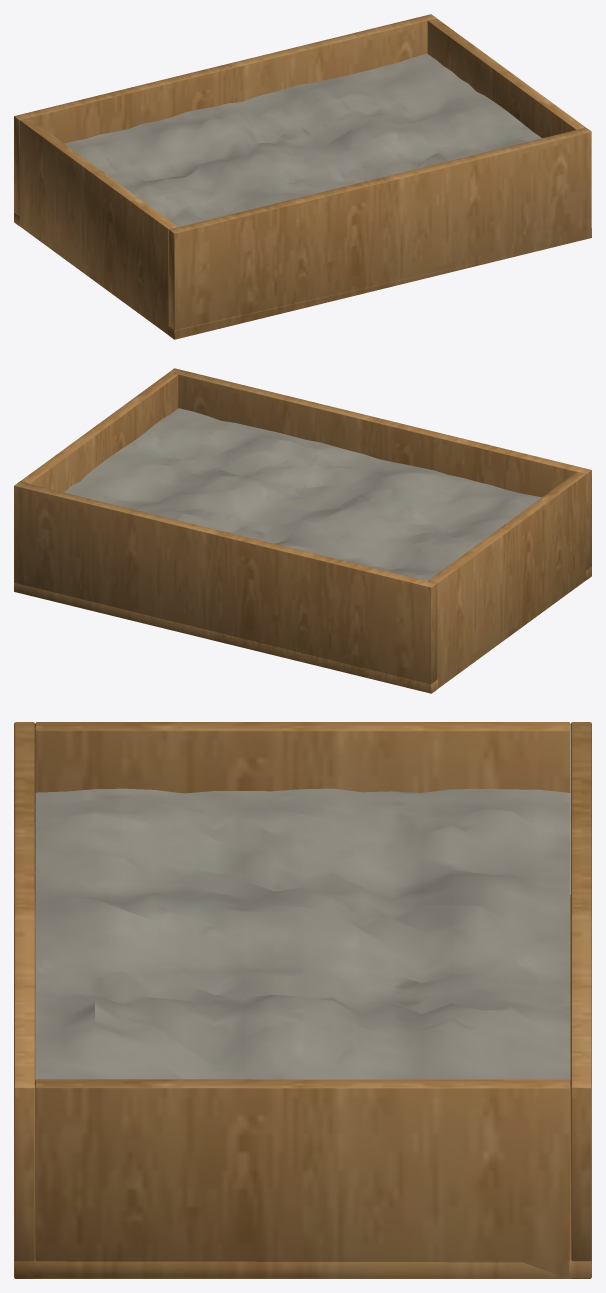
File: REV-ARG-002_lod1.glb
3 renders of one model, top to bottom at view 1: azimuth 30°, elevation 25°; view 2: azimuth 150°, elevation 25°; view 3: azimuth 270°, elevation 25°, orthographic. The views are drawn at different scales.
Parts seen in each view (by area): view 1: REV-ARG-002_lado-1, REV-ARG-002_argamassa, REV-ARG-002_cab-1, REV-ARG-002_lado1, REV-ARG-002_cab1, REV-ARG-002_fundo; view 2: REV-ARG-002_lado1, REV-ARG-002_argamassa, REV-ARG-002_cab-1, REV-ARG-002_lado-1, REV-ARG-002_cab1, REV-ARG-002_fundo; view 3: REV-ARG-002_argamassa, REV-ARG-002_cab1, REV-ARG-002_cab-1, REV-ARG-002_lado-1, REV-ARG-002_lado1, REV-ARG-002_fundo.
Boxes of the visible parts, left/top/right/bottom form: REV-ARG-002_lado-1: left=169, top=127, right=591, bottom=339; REV-ARG-002_argamassa: left=65, top=53, right=541, bottom=227; REV-ARG-002_cab-1: left=19, top=118, right=177, bottom=334; REV-ARG-002_lado1: left=14, top=14, right=436, bottom=225; REV-ARG-002_cab1: left=427, top=18, right=585, bottom=138; REV-ARG-002_fundo: left=14, top=213, right=591, bottom=339; REV-ARG-002_lado1: left=14, top=481, right=436, bottom=692; REV-ARG-002_argamassa: left=64, top=408, right=541, bottom=580; REV-ARG-002_cab-1: left=428, top=472, right=585, bottom=688; REV-ARG-002_lado-1: left=169, top=368, right=591, bottom=579; REV-ARG-002_cab1: left=20, top=372, right=178, bottom=492; REV-ARG-002_fundo: left=14, top=567, right=591, bottom=693; REV-ARG-002_argamassa: left=35, top=788, right=570, bottom=1079; REV-ARG-002_cab1: left=35, top=1079, right=570, bottom=1278; REV-ARG-002_cab-1: left=35, top=722, right=570, bottom=902; REV-ARG-002_lado-1: left=14, top=722, right=35, bottom=1278; REV-ARG-002_lado1: left=570, top=722, right=591, bottom=1278; REV-ARG-002_fundo: left=14, top=895, right=591, bottom=1278.
Size of the model in its own units: 0.9 by 0.22 by 0.6.
Materials: 2 (2 with a texture image).
